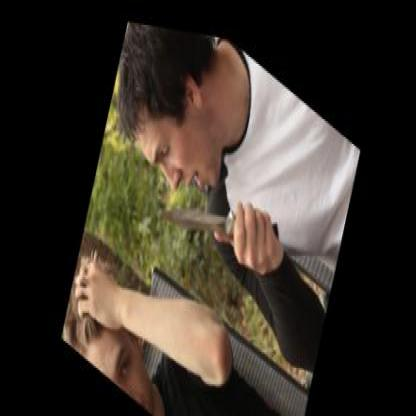knife: (149, 112, 282, 308)
